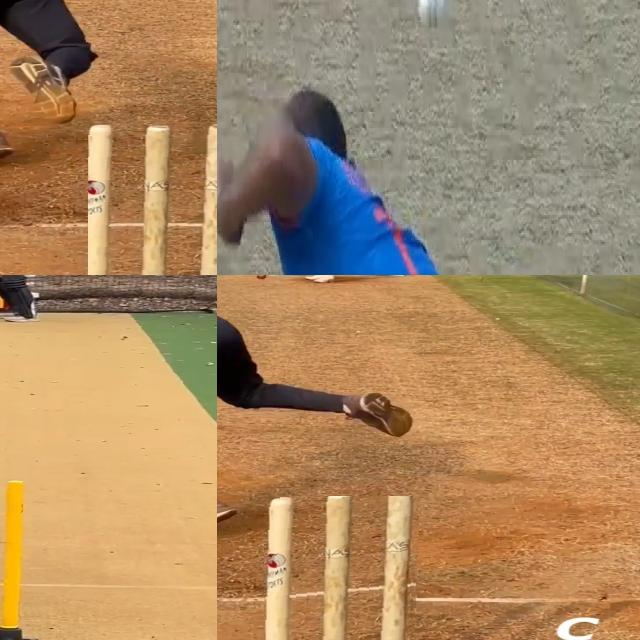Cricket ball: (415, 0, 448, 33), (256, 275, 267, 279)
Stumps: (264, 496, 421, 640), (88, 123, 217, 275), (0, 477, 42, 640)
